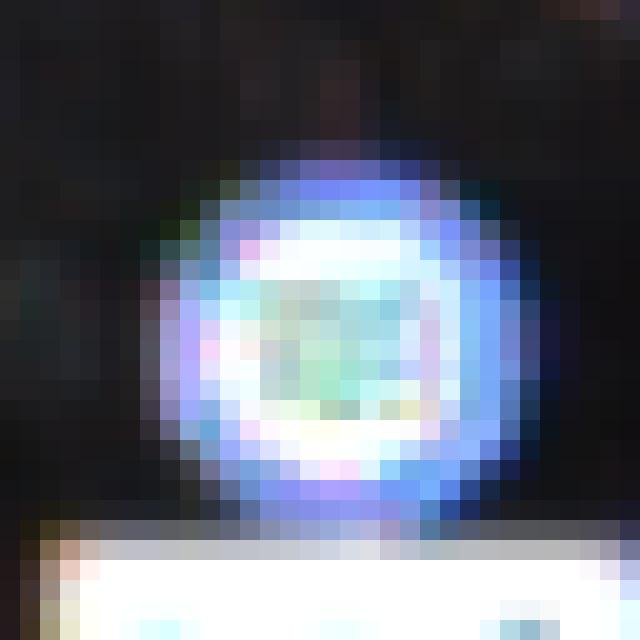SPEED LIMIT 100: (155, 153, 529, 524)
